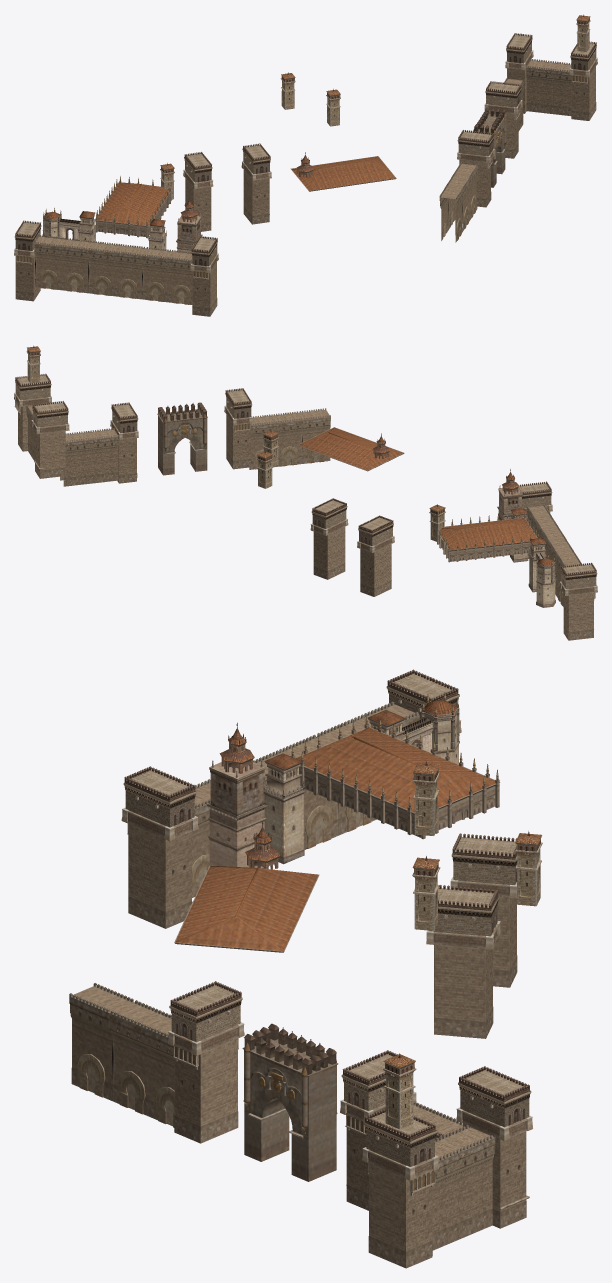
3 views of the same model, one above another, from view 1: azimuth 30°, elevation 25°; view 2: azimuth 150°, elevation 25°; view 3: azimuth 270°, elevation 25° (orthographic). The views are drawn at different scales.
Visible parts, largest first — view 1: Lobby_Merged02_SM_YCY; view 2: Lobby_Merged02_SM_YCY; view 3: Lobby_Merged02_SM_YCY.
Boxes of the visible parts, x1,y1,x2,y2 form: Lobby_Merged02_SM_YCY: [14, 14, 597, 316]; Lobby_Merged02_SM_YCY: [14, 345, 597, 640]; Lobby_Merged02_SM_YCY: [69, 669, 542, 1268].
Bounding box in the file's own units: 75.7 × 18.74 × 26.6.
Materials: 1 (1 with a texture image).
